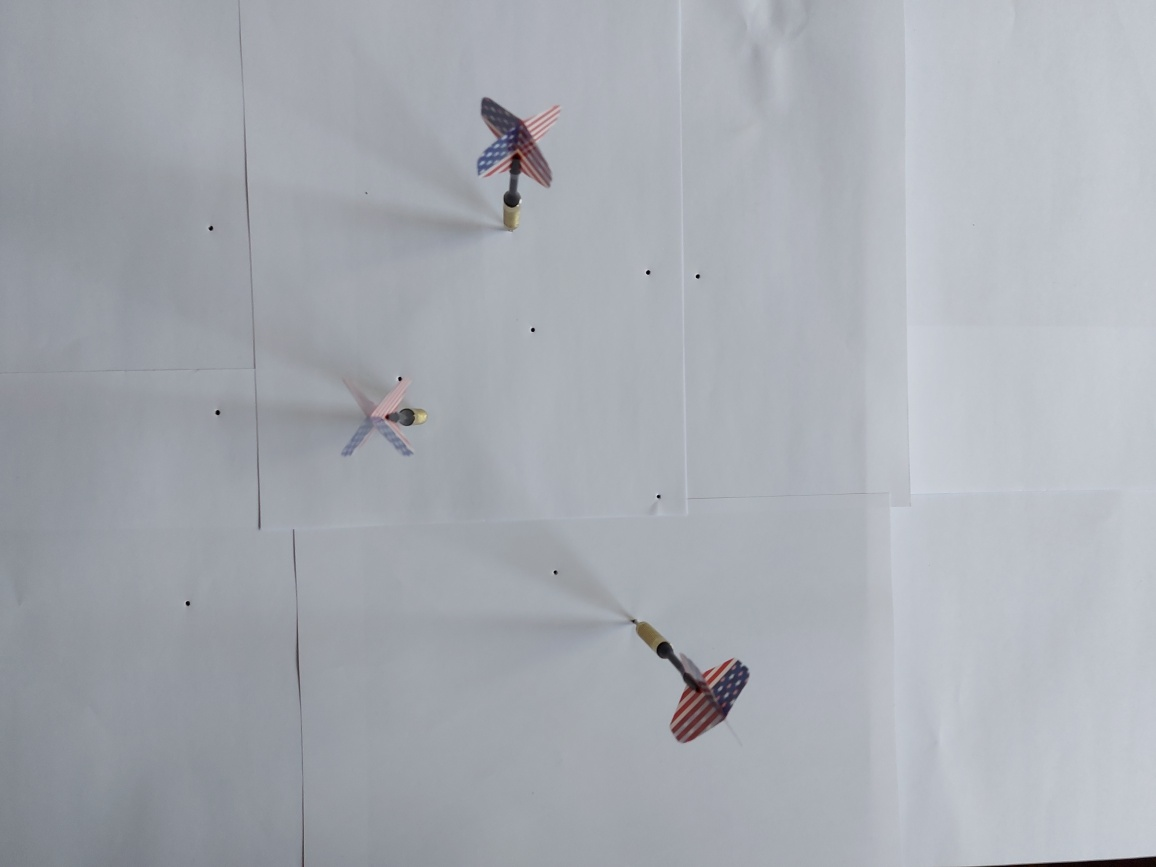Dart: (620, 595, 762, 758), (463, 89, 570, 245), (330, 365, 438, 465)
